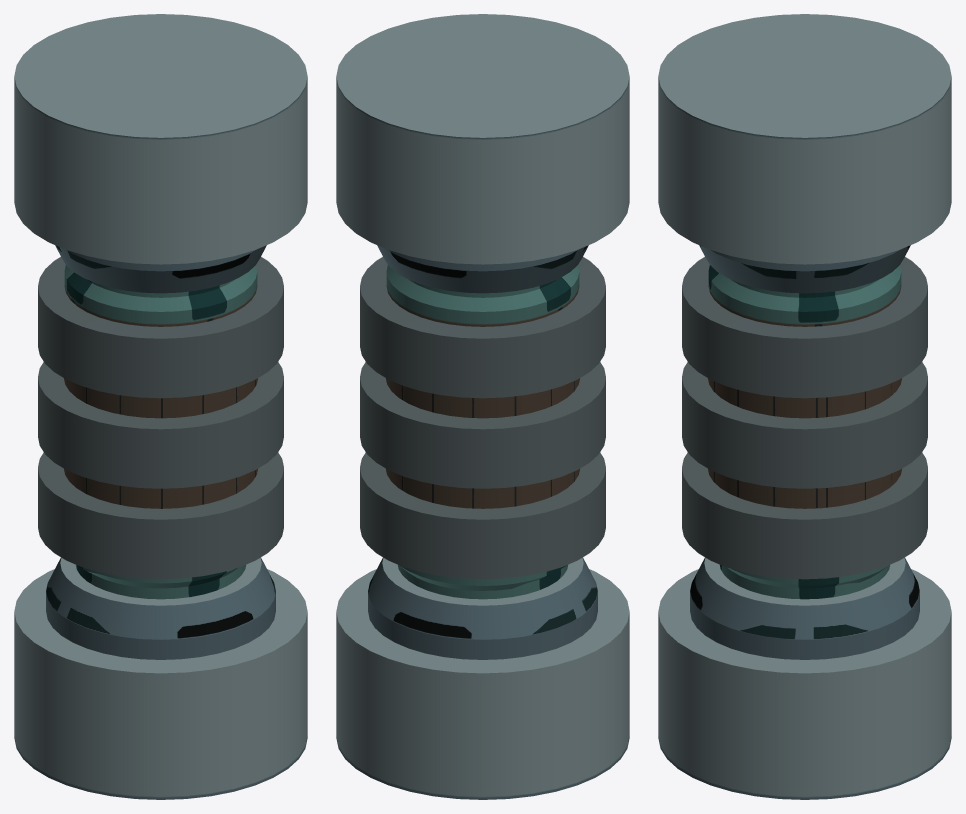
The model's file is Engine.fbx.
3 views of the same model, side by side, from view 1: azimuth 30°, elevation 25°; view 2: azimuth 150°, elevation 25°; view 3: azimuth 270°, elevation 25° (orthographic).
Visible parts, largest first — view 1: Room_Engine; view 2: Room_Engine; view 3: Room_Engine.
Part boxes in pixels (x1=…): Room_Engine: x1=14, y1=14, x2=307, y2=799; Room_Engine: x1=336, y1=14, x2=629, y2=799; Room_Engine: x1=658, y1=14, x2=951, y2=799.
Bounding box in the file's own units: 420 × 1046 × 420.
Materials: 1 (1 with a texture image).
